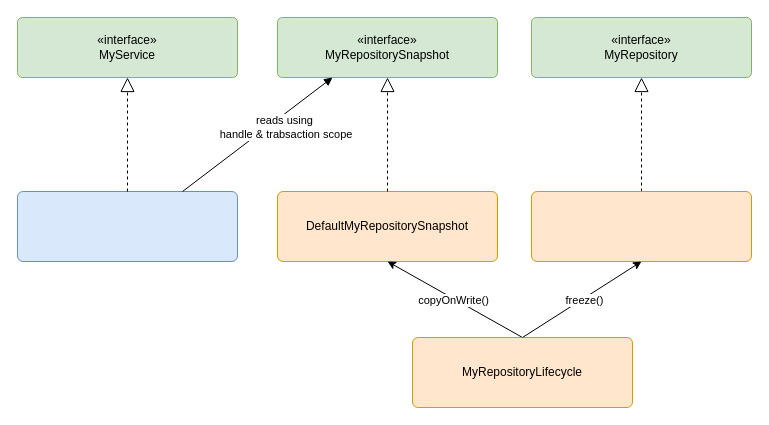
Some shapes in this 769 by 425 pixel diagram are drawn without their labels. The centre of each missing label's shape, as x and y in pixels:
DefaultMyRepository: pixel 641 226
DefaultMyService: pixel 127 226
